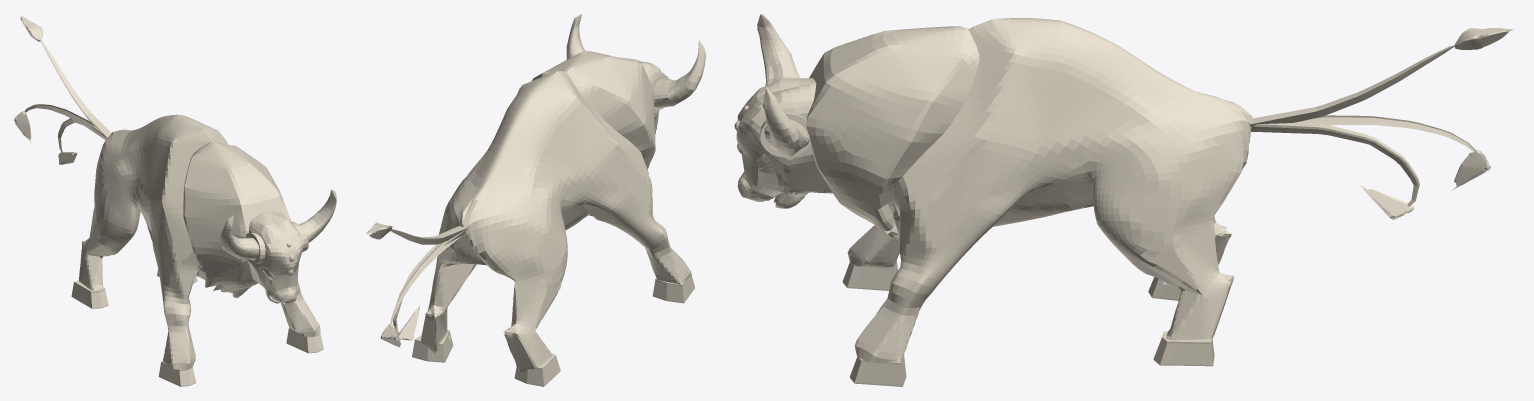
Rendered from tauros.glb.
3 views of the same model, side by side, from view 1: azimuth 30°, elevation 25°; view 2: azimuth 150°, elevation 25°; view 3: azimuth 270°, elevation 25° (orthographic). The views are drawn at different scales.
Visible parts, largest first — view 1: Node; view 2: Node; view 3: Node.
Boxes of the visible parts, <box> form: Node: <box>14,16,336,386</box>; Node: <box>366,14,705,386</box>; Node: <box>734,14,1516,386</box>.
Size of the model in its own units: 10.84 by 13.6 by 31.28.
